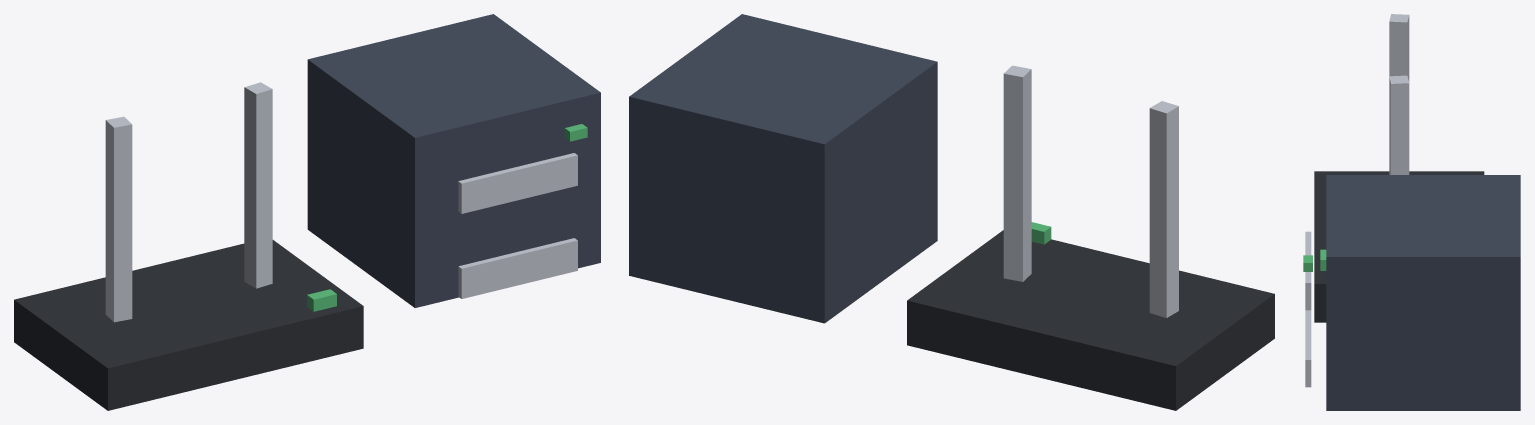
File: station_transport_2.glb
3 views of the same model, side by side, from view 1: azimuth 30°, elevation 25°; view 2: azimuth 150°, elevation 25°; view 3: azimuth 270°, elevation 25° (orthographic). The views are drawn at different scales.
Parts seen in each view (by area): view 1: nas_gehaeuse, router_gehaeuse, router_antenne_1, router_antenne_0, nas_schacht_1, nas_schacht_0, router_led; view 2: nas_gehaeuse, router_gehaeuse, router_antenne_0, router_antenne_1; view 3: nas_gehaeuse, router_gehaeuse, router_antenne_1, router_antenne_0, nas_schacht_0, nas_schacht_1.
Part boxes in pixels (x1=…): nas_gehaeuse: x1=307, y1=14, x2=600, y2=307; router_gehaeuse: x1=14, y1=240, x2=363, y2=410; router_antenne_1: x1=244, y1=82, x2=272, y2=288; router_antenne_0: x1=105, y1=116, x2=132, y2=322; nas_schacht_1: x1=458, y1=153, x2=577, y2=213; nas_schacht_0: x1=458, y1=238, x2=577, y2=298; router_led: x1=307, y1=289, x2=336, y2=311; nas_gehaeuse: x1=629, y1=14, x2=937, y2=323; router_gehaeuse: x1=907, y1=230, x2=1274, y2=410; router_antenne_0: x1=1149, y1=101, x2=1178, y2=317; router_antenne_1: x1=1003, y1=65, x2=1031, y2=281; nas_gehaeuse: x1=1326, y1=175, x2=1520, y2=410; router_gehaeuse: x1=1314, y1=171, x2=1484, y2=322; router_antenne_1: x1=1389, y1=75, x2=1409, y2=174; router_antenne_0: x1=1389, y1=14, x2=1409, y2=82; nas_schacht_0: x1=1305, y1=310, x2=1311, y2=387; nas_schacht_1: x1=1305, y1=231, x2=1311, y2=310.
Size of the model in its own units: 0.43 by 0.1975 by 0.179.
